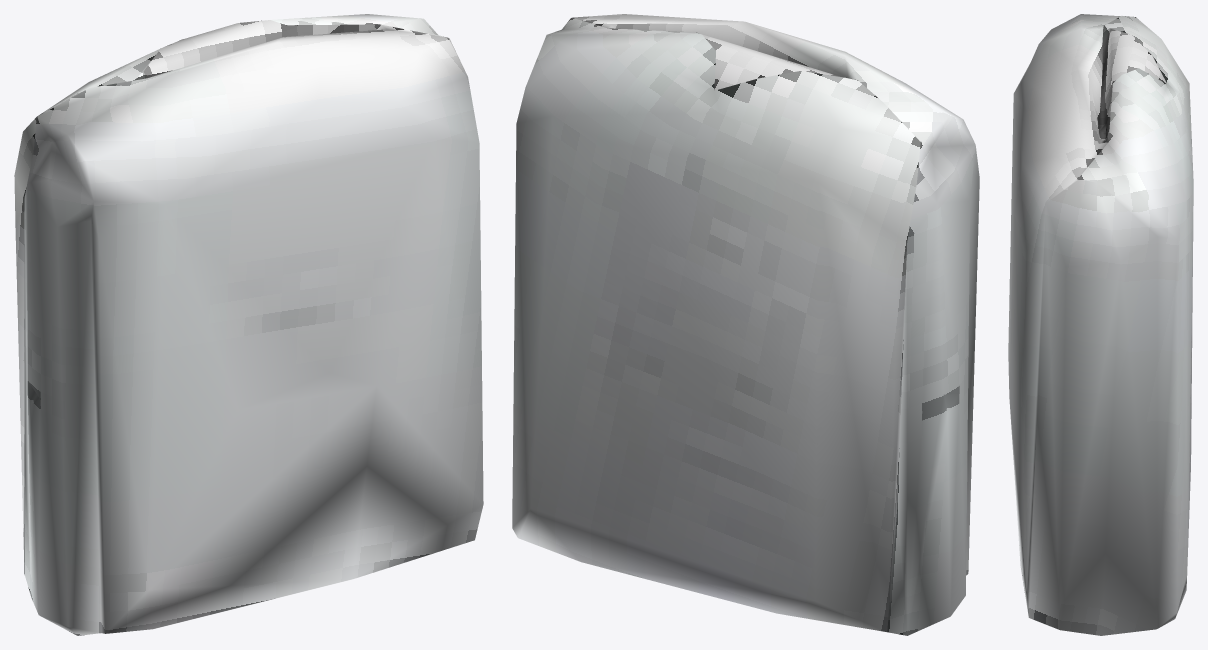
The model's file is Fujifilm_instax_SHARE_SP1_10_photos-low.glb.
The picture shows the model from 3 angles, left to right: view 1: azimuth 30°, elevation 25°; view 2: azimuth 150°, elevation 25°; view 3: azimuth 270°, elevation 25°; orthographic projection. The views are drawn at different scales.
Parts seen in each view (by area): view 1: Fujifilm_instax_SHARE_SP1_10_photos; view 2: Fujifilm_instax_SHARE_SP1_10_photos; view 3: Fujifilm_instax_SHARE_SP1_10_photos.
Boxes of the visible parts, bbox=[...] form: Fujifilm_instax_SHARE_SP1_10_photos: bbox=[14, 14, 483, 635]; Fujifilm_instax_SHARE_SP1_10_photos: bbox=[512, 14, 979, 635]; Fujifilm_instax_SHARE_SP1_10_photos: bbox=[1008, 14, 1193, 635].
Size of the model in its own units: 0.1018 by 0.1234 by 0.0423.
1 material, 1 textured.
